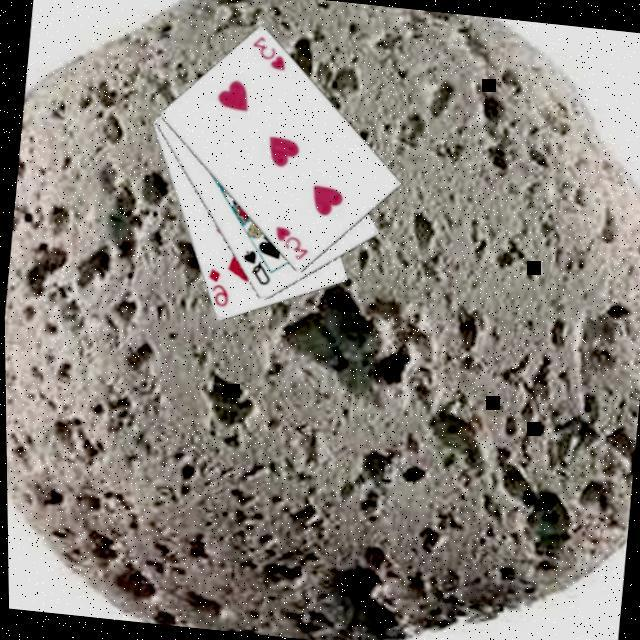3H: (270, 220, 314, 262), (248, 31, 292, 72)
9D: (202, 262, 235, 308)
QS: (237, 244, 276, 287)
